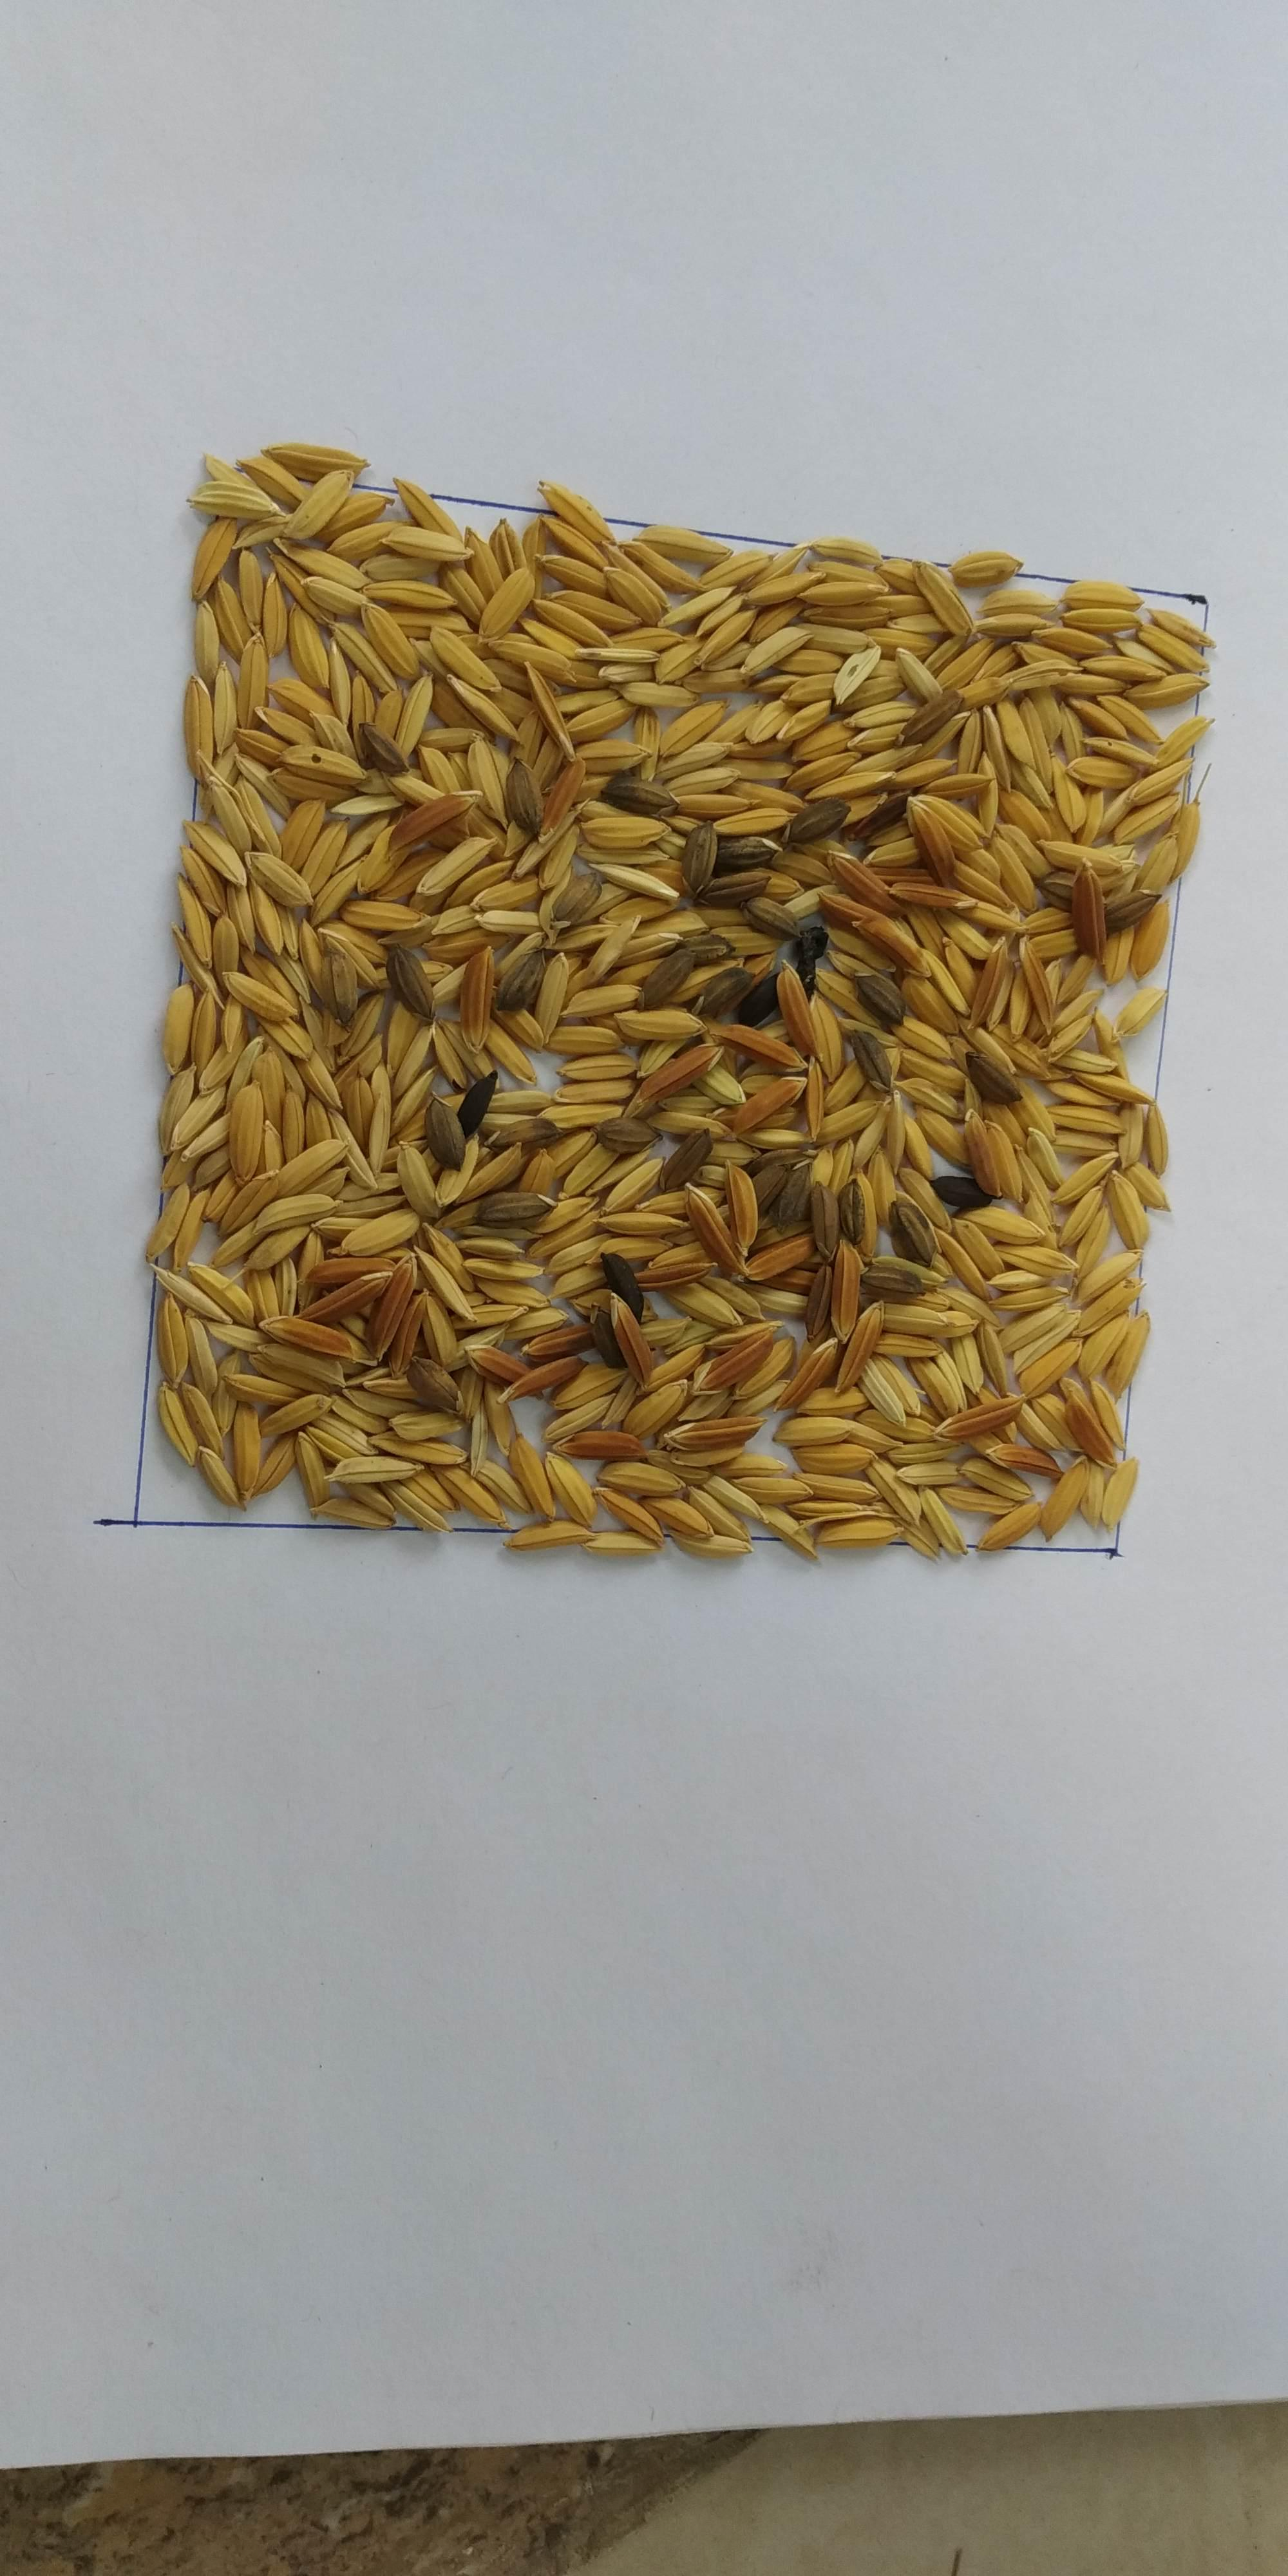impure: (233, 613, 1120, 1516)
